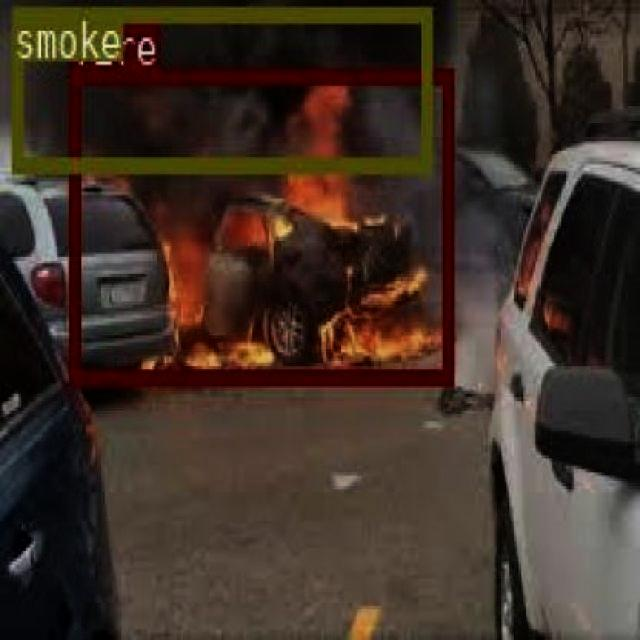fire: (69, 66, 452, 383)
smoke: (9, 4, 428, 170)
